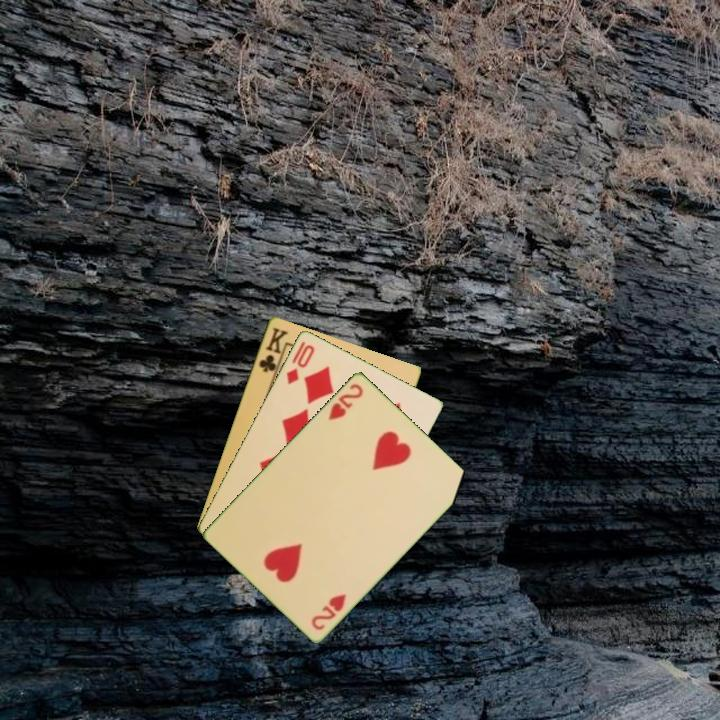10d: (282, 340, 317, 387)
2h: (307, 590, 349, 633), (325, 380, 366, 423)
Kc: (255, 323, 291, 380)
